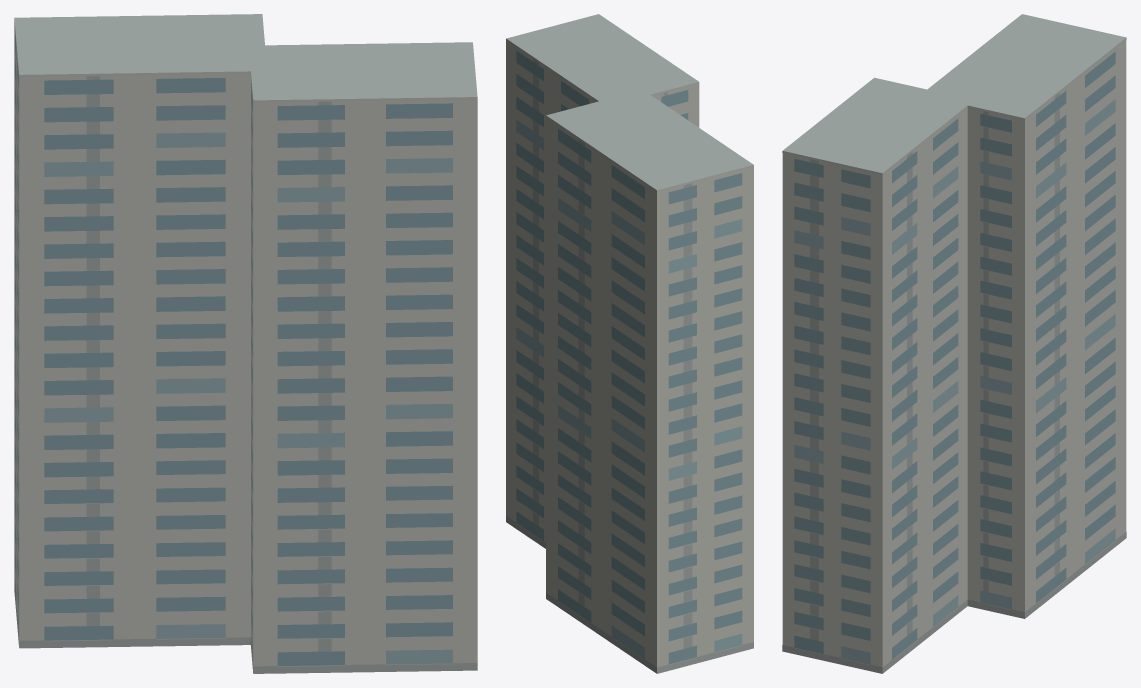
Rendered from residential-85ae2d99-b2e4-4862-9f8b-26bb66b0f449.glb.
3 views of the same model, side by side, from view 1: azimuth 30°, elevation 25°; view 2: azimuth 150°, elevation 25°; view 3: azimuth 270°, elevation 25° (orthographic). The views are drawn at different scales.
Parts seen in each view (by area): view 1: residential-85ae2d99-b2e4-4862-9f8b-26bb66b0f449.tmp; view 2: residential-85ae2d99-b2e4-4862-9f8b-26bb66b0f449.tmp; view 3: residential-85ae2d99-b2e4-4862-9f8b-26bb66b0f449.tmp.
Boxes of the visible parts, box(x1,y1,x2,y2) form: residential-85ae2d99-b2e4-4862-9f8b-26bb66b0f449.tmp: box(14, 14, 477, 673); residential-85ae2d99-b2e4-4862-9f8b-26bb66b0f449.tmp: box(506, 14, 753, 673); residential-85ae2d99-b2e4-4862-9f8b-26bb66b0f449.tmp: box(782, 14, 1126, 673).
Size of the model in its own units: 38.88 by 57 by 35.5.
